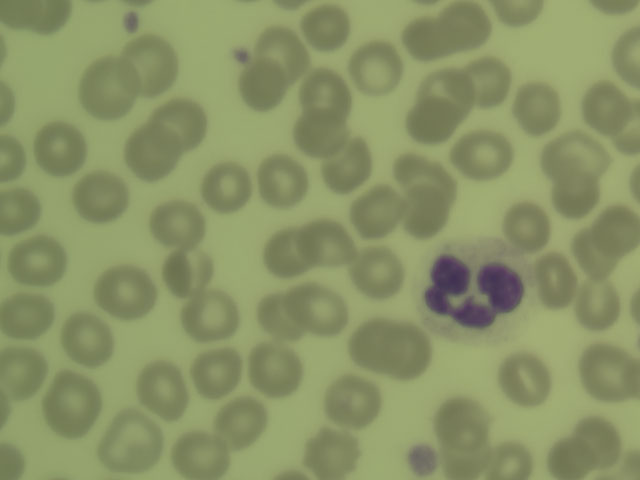Platelets: (405, 443, 439, 475), (230, 44, 254, 66), (117, 11, 141, 29)
RBC: (101, 412, 169, 472), (40, 376, 97, 437), (540, 132, 610, 180), (121, 36, 179, 91), (96, 266, 152, 322), (78, 63, 137, 116), (152, 100, 210, 151), (137, 363, 191, 415), (579, 348, 634, 399), (499, 354, 554, 405), (125, 130, 181, 179), (232, 64, 289, 110), (396, 153, 455, 196), (354, 46, 405, 94), (13, 238, 64, 286), (75, 174, 126, 222), (32, 126, 83, 174), (59, 316, 110, 364), (187, 292, 238, 340), (161, 245, 212, 293), (152, 201, 203, 249), (203, 161, 254, 209), (261, 155, 312, 203), (437, 398, 488, 446), (306, 428, 357, 476), (327, 377, 378, 425), (383, 331, 434, 379), (349, 320, 400, 368), (509, 84, 560, 132), (399, 190, 450, 238), (351, 186, 402, 234), (462, 129, 513, 177), (408, 95, 459, 143), (421, 66, 472, 114), (465, 55, 516, 103), (399, 17, 450, 65), (300, 70, 351, 118), (262, 27, 313, 75), (301, 4, 352, 52), (353, 249, 404, 297), (301, 219, 352, 267), (261, 230, 312, 278), (294, 284, 345, 332), (255, 291, 306, 339), (248, 346, 299, 394), (217, 397, 268, 445), (173, 432, 224, 480), (188, 349, 239, 397), (576, 84, 627, 132), (548, 171, 599, 219), (589, 207, 640, 255), (568, 229, 619, 277), (575, 416, 626, 464), (574, 282, 625, 330), (527, 253, 578, 301), (499, 198, 550, 246), (324, 140, 375, 188), (294, 109, 345, 157), (1, 289, 51, 337), (542, 432, 593, 479), (482, 432, 533, 479), (437, 432, 488, 479), (440, 1, 491, 48), (1, 347, 50, 395), (1, 185, 46, 233), (607, 29, 640, 91), (28, 1, 73, 37), (491, 1, 543, 32), (610, 102, 640, 151), (1, 1, 43, 33), (1, 135, 29, 183), (1, 441, 30, 480), (1, 84, 24, 126)
WBC: (415, 243, 525, 343)
